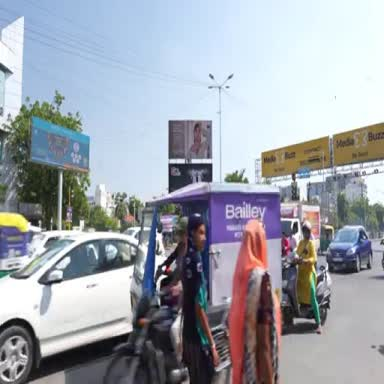Car: (0, 233, 147, 383), (327, 226, 372, 272), (28, 231, 83, 258), (156, 232, 165, 256), (380, 238, 383, 245)
